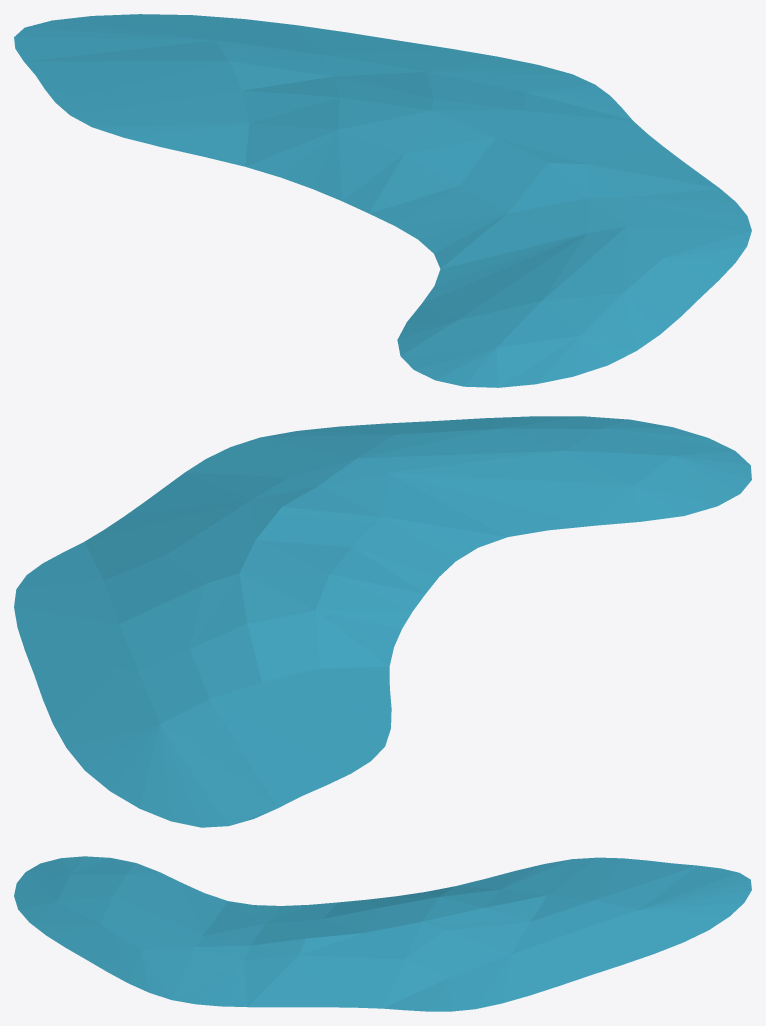
The model's file is SM_Env_Beach_Pile_02.glb.
The picture shows the model from 3 angles, top to bottom: view 1: azimuth 30°, elevation 25°; view 2: azimuth 150°, elevation 25°; view 3: azimuth 270°, elevation 25°; orthographic projection. The views are drawn at different scales.
Visible parts, largest first — view 1: SM_Env_Beach_Pile_02; view 2: SM_Env_Beach_Pile_02; view 3: SM_Env_Beach_Pile_02.
Part boxes in pixels (left/top/right/bottom): SM_Env_Beach_Pile_02: left=14, top=14, right=751, bottom=387; SM_Env_Beach_Pile_02: left=14, top=416, right=751, bottom=827; SM_Env_Beach_Pile_02: left=14, top=856, right=751, bottom=1011.
Size of the model in its own units: 0.0259 by 0.00198 by 0.0521.
